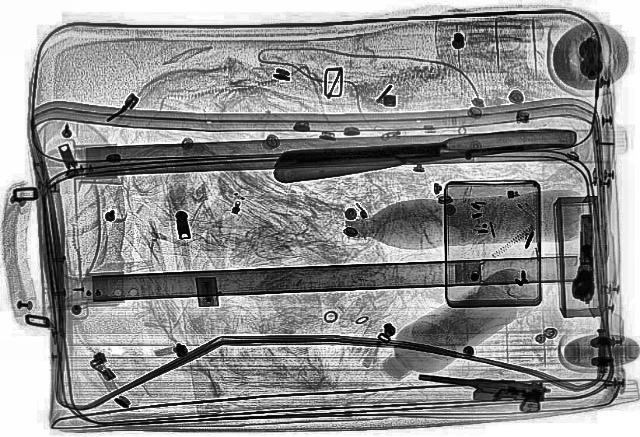Gun: (412, 363, 552, 413), (568, 214, 596, 302)
Knife: (271, 132, 567, 182), (269, 126, 576, 166)
